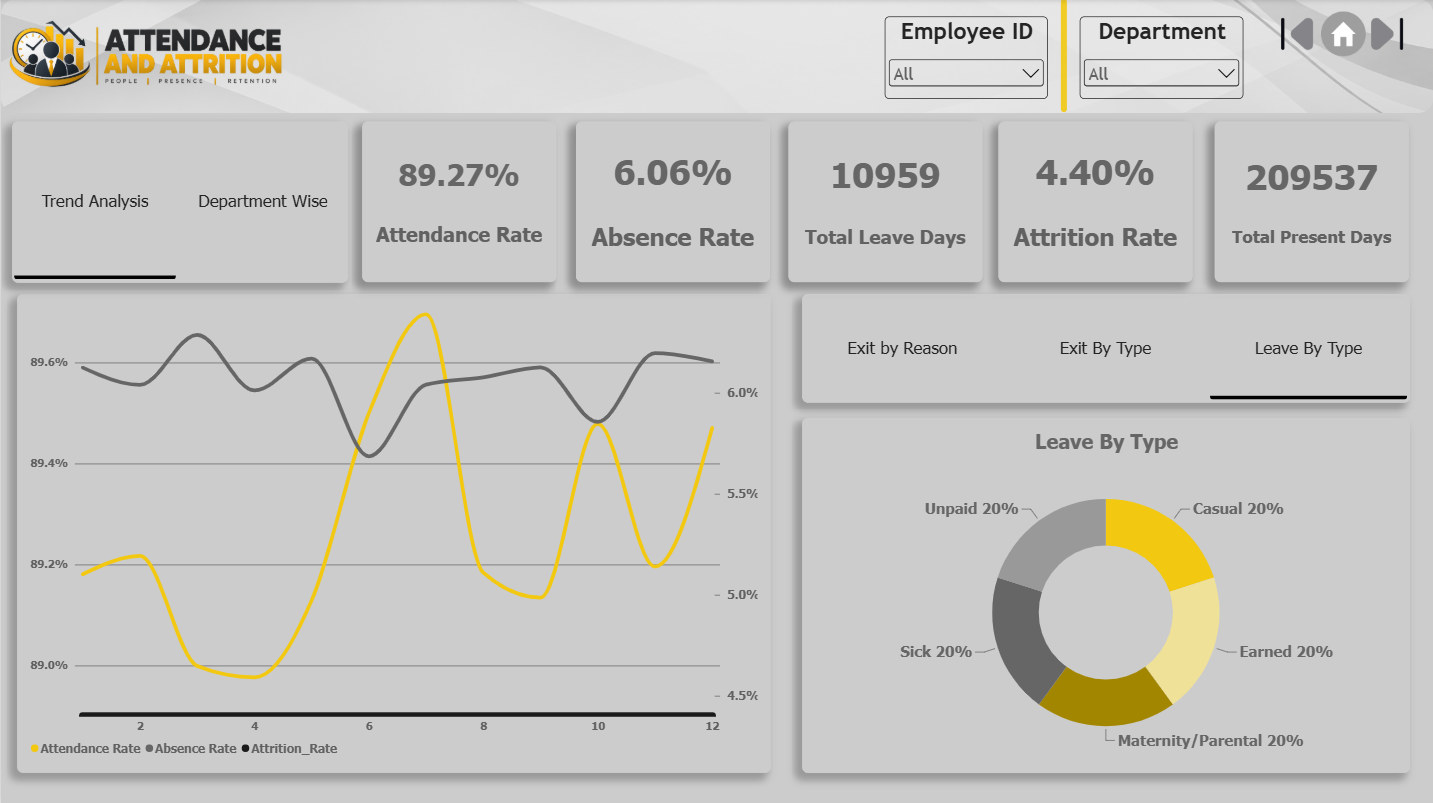

The dashboard page shown, as its layout file describes it:
{"tool":"powerbi","page":{"name":"Attendance And Attrition","canvas":[1920,1080],"ordinal":5},"visuals":[{"type":"image","box":[0,0,1919.5,152.4],"z":0},{"type":"image","box":[1768.4,17.6,60,60],"z":1000},{"type":"image","box":[1707,16,60,60],"z":2000},{"type":"image","box":[1827.4,16.7,60,60],"z":3000},{"type":"image","box":[0,0,386.9,152.4],"z":4000},{"type":"cardVisual","title":"Total Salary","fields":{"Data":["Table.Attendance Rate"]},"box":[483.4,163.5,260,215],"z":5000},{"type":"cardVisual","title":"Total Salary","fields":{"Data":["Table.Absence Rate"]},"box":[770.2,163.5,260,215],"z":6000},{"type":"cardVisual","title":"Total Salary","fields":{"Data":["Table.Total Leave Days"]},"box":[1054.6,163.5,260,215],"z":7000},{"type":"cardVisual","title":"Total Salary","fields":{"Data":["Table.Attrition_Rate"]},"box":[1336.6,163.5,260,215],"z":8000},{"type":"shape","box":[1148.9,0,550.4,151.6],"z":9000},{"type":"slicer","title":"Department","fields":{"Values":["hr_analytics departments.Department_Name"]},"box":[1445.6,23.8,219.4,110.5],"z":10000},{"type":"slicer","title":"Employee ID","fields":{"Values":["hr_analytics employees.Employee_ID"]},"box":[1183.8,23.8,218.6,110.4],"z":11000},{"type":"cardVisual","title":"Total Salary","fields":{"Data":["Table.Total Present Days"]},"box":[1625.7,163.5,260,215],"z":12000},{"type":"donutChart","title":"Leave By Type","fields":{"Category":["hr_analytics leave.Leave_Type"],"Y":["Table.Total_Employees"]},"box":[1073.6,561.1,814,475.7],"z":13000},{"type":"lineChart","fields":{"Category":["hr_analytics attendance.Month","hr_analytics attendance.Year"],"Y":["Table.Attendance Rate"],"Y2":["Table.Absence Rate","Table.Attrition_Rate"]},"box":[21.3,395.2,1009.4,641.3],"z":14000},{"type":"bookmarkNavigator","box":[14.4,163.6,449.4,215.7],"z":16000},{"type":"bookmarkNavigator","box":[1073.6,395.3,814,145.7],"z":19000}]}

Visuals, with their boxes in screenshot pixels (x1, y1, x2, y2), scaled from the page's 1920x1080 canvas onto the 1433x803 screenshot:
image: <region>0, 0, 1432, 113</region>
image: <region>1320, 13, 1365, 58</region>
image: <region>1274, 12, 1319, 57</region>
image: <region>1364, 12, 1409, 57</region>
image: <region>0, 0, 289, 113</region>
"Total Salary" cardVisual: <region>361, 122, 555, 281</region>
"Total Salary" cardVisual: <region>575, 122, 769, 281</region>
"Total Salary" cardVisual: <region>787, 122, 981, 281</region>
"Total Salary" cardVisual: <region>998, 122, 1192, 281</region>
shape: <region>857, 0, 1268, 113</region>
"Department" slicer: <region>1079, 18, 1243, 100</region>
"Employee ID" slicer: <region>884, 18, 1047, 100</region>
"Total Salary" cardVisual: <region>1213, 122, 1407, 281</region>
"Leave By Type" donutChart: <region>801, 417, 1409, 771</region>
lineChart - hr_analytics attendance.Month x hr_analytics attendance.Year: <region>16, 294, 769, 771</region>
bookmarkNavigator: <region>11, 122, 346, 282</region>
bookmarkNavigator: <region>801, 294, 1409, 402</region>
